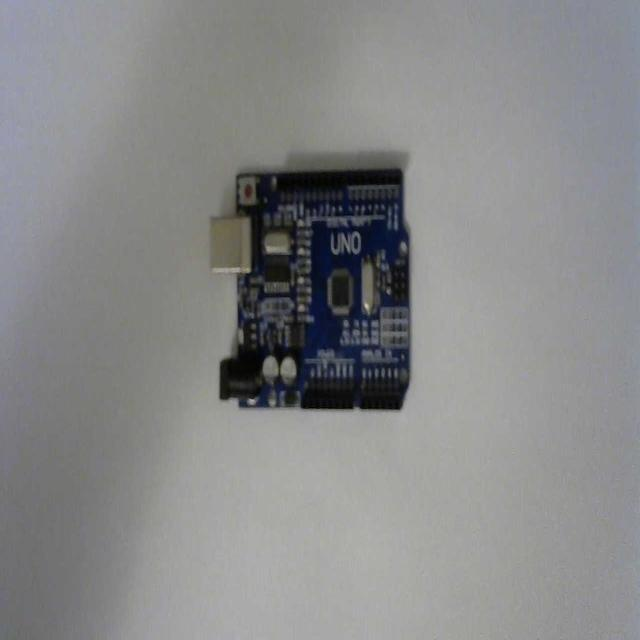arduino: (208, 158, 420, 418)
